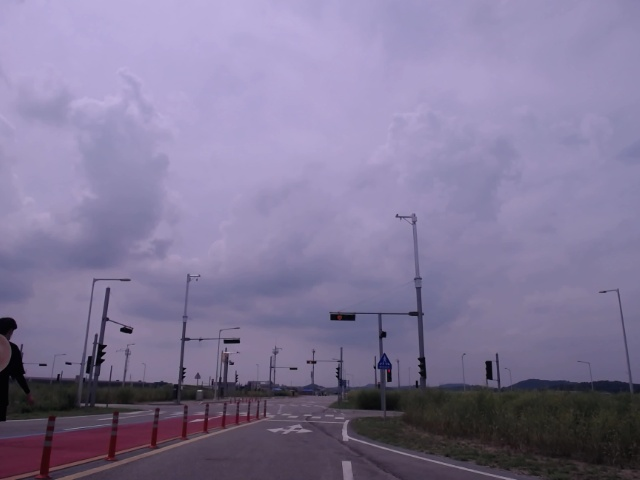orange_4: (330, 311, 357, 321), (306, 359, 317, 365)
